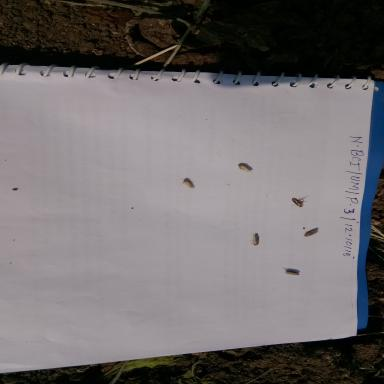pbw: (299, 224, 325, 240), (279, 266, 305, 278), (290, 194, 310, 208), (236, 162, 254, 176), (179, 177, 196, 190), (248, 232, 261, 247)
